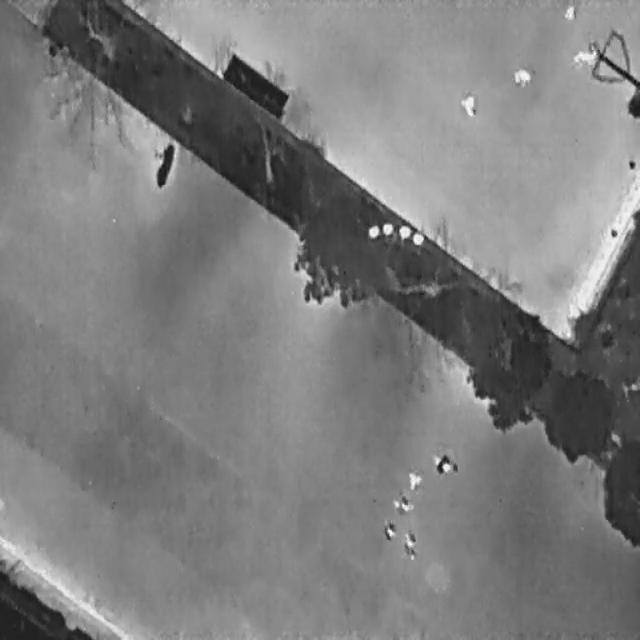Bicycle: (149, 135, 179, 191)
Person: (432, 449, 459, 476), (391, 492, 413, 518), (572, 46, 598, 66), (403, 529, 417, 559), (381, 518, 396, 544), (512, 67, 531, 85), (459, 94, 475, 115), (406, 469, 422, 490), (563, 4, 576, 20)
